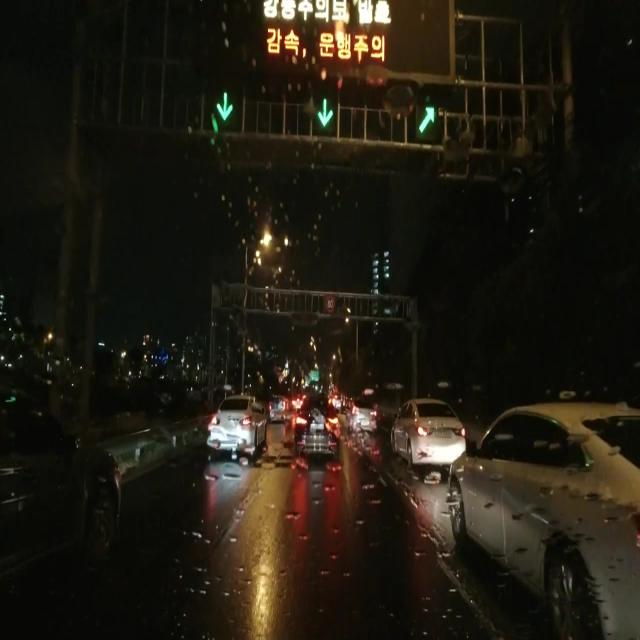Car: (449, 400, 638, 639), (1, 387, 118, 608), (387, 397, 462, 472), (294, 388, 341, 468), (209, 391, 266, 451), (349, 388, 376, 441)
